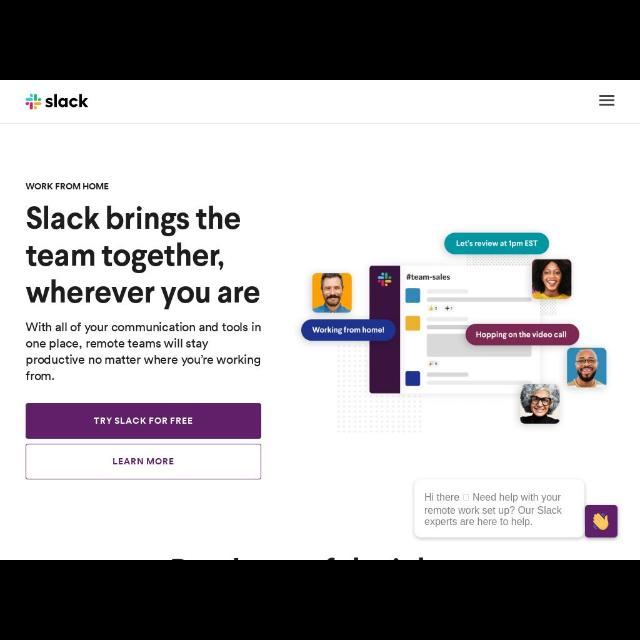button: (586, 505, 618, 537)
icon: (599, 94, 615, 106)
image: (300, 232, 610, 436), (26, 94, 88, 110), (593, 512, 609, 530)
text: (26, 206, 260, 310), (26, 322, 262, 380), (424, 493, 562, 527), (26, 182, 109, 190), (94, 418, 192, 424), (114, 458, 174, 466)
textbutton: (26, 403, 262, 439), (26, 444, 260, 480)
toolbar: (1, 80, 639, 124)
